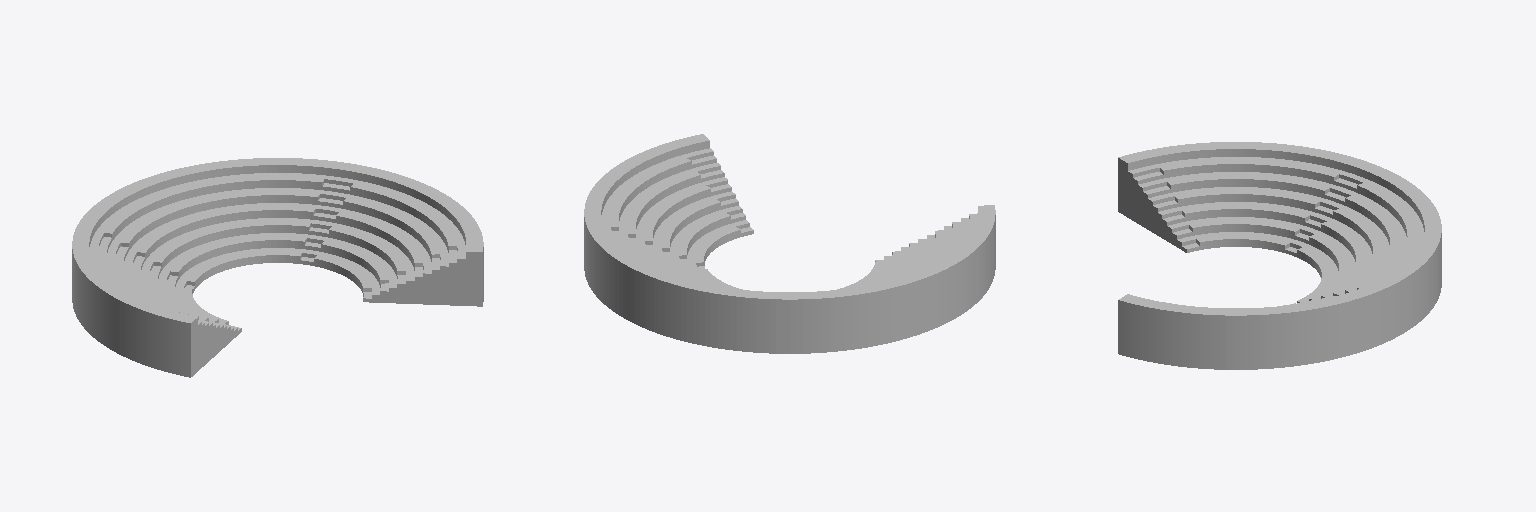
Rendered from AmphitheatreN.obj.
3 views of the same model, side by side, from view 1: azimuth 30°, elevation 25°; view 2: azimuth 150°, elevation 25°; view 3: azimuth 270°, elevation 25° (orthographic).
Visible parts, largest first — view 1: Amphitheater_Lathe-NURBS_Seats_2, Amphitheater_Lathe-NURBS_Seats, Amphitheater_Lathe-NURBS_Seats_3, Amphitheater_Lathe-NURBS_Stairs_Deckfl_che_13, Amphitheater_Lathe-NURBS_Stairs_2, Amphitheater_Lathe-NURBS_Stairs_4, Amphitheater_Lathe-NURBS_Stairs_4_Deckfl_che_2, Amphitheater_Lathe-NURBS_Stairs, Amphitheater_Lathe-NURBS_Stairs_3; view 2: Amphitheater_Lathe-NURBS_Seats_2, Amphitheater_Lathe-NURBS_Seats, Amphitheater_Lathe-NURBS_Seats_3, Amphitheater_Lathe-NURBS_Stairs, Amphitheater_Lathe-NURBS_Stairs_3, Amphitheater_Lathe-NURBS_Stairs_2, Amphitheater_Lathe-NURBS_Stairs_4; view 3: Amphitheater_Lathe-NURBS_Seats_3, Amphitheater_Lathe-NURBS_Seats_2, Amphitheater_Lathe-NURBS_Seats, Amphitheater_Lathe-NURBS_Stairs_4, Amphitheater_Lathe-NURBS_Stairs_3, Amphitheater_Lathe-NURBS_Stairs_4_Deckfl_che_2, Amphitheater_Lathe-NURBS_Stairs, Amphitheater_Lathe-NURBS_Stairs_2.
Part boxes in pixels (left/top/right/bottom): Amphitheater_Lathe-NURBS_Seats_2: left=80, top=158, right=330, bottom=288; Amphitheater_Lathe-NURBS_Seats: left=314, top=166, right=482, bottom=292; Amphitheater_Lathe-NURBS_Seats_3: left=72, top=237, right=227, bottom=369; Amphitheater_Lathe-NURBS_Stairs_Deckfl_che_13: left=363, top=252, right=482, bottom=306; Amphitheater_Lathe-NURBS_Stairs_2: left=300, top=161, right=363, bottom=265; Amphitheater_Lathe-NURBS_Stairs_4: left=160, top=310, right=240, bottom=377; Amphitheater_Lathe-NURBS_Stairs_4_Deckfl_che_2: left=191, top=318, right=241, bottom=376; Amphitheater_Lathe-NURBS_Stairs: left=363, top=237, right=483, bottom=301; Amphitheater_Lathe-NURBS_Stairs_3: left=73, top=222, right=194, bottom=292; Amphitheater_Lathe-NURBS_Seats_2: left=591, top=233, right=842, bottom=353; Amphitheater_Lathe-NURBS_Seats: left=584, top=142, right=740, bottom=270; Amphitheater_Lathe-NURBS_Seats_3: left=837, top=220, right=994, bottom=345; Amphitheater_Lathe-NURBS_Stairs: left=672, top=134, right=753, bottom=236; Amphitheater_Lathe-NURBS_Stairs_3: left=839, top=285, right=876, bottom=350; Amphitheater_Lathe-NURBS_Stairs_2: left=585, top=220, right=704, bottom=287; Amphitheater_Lathe-NURBS_Stairs_4: left=875, top=205, right=995, bottom=269; Amphitheater_Lathe-NURBS_Seats_3: left=1150, top=142, right=1353, bottom=252; Amphitheater_Lathe-NURBS_Seats_2: left=1297, top=167, right=1441, bottom=343; Amphitheater_Lathe-NURBS_Seats: left=1149, top=294, right=1353, bottom=369; Amphitheater_Lathe-NURBS_Stairs_4: left=1118, top=150, right=1199, bottom=252; Amphitheater_Lathe-NURBS_Stairs_3: left=1285, top=158, right=1380, bottom=256; Amphitheater_Lathe-NURBS_Stairs_4_Deckfl_che_2: left=1118, top=158, right=1186, bottom=252; Amphitheater_Lathe-NURBS_Stairs: left=1118, top=294, right=1155, bottom=361; Amphitheater_Lathe-NURBS_Stairs_2: left=1345, top=285, right=1381, bottom=353.
Bounding box in the file's own units: 1440 × 211 × 1133.